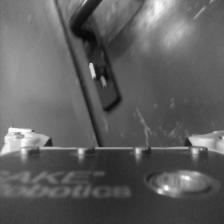Door Handle: (64, 0, 102, 41)
Lock: (88, 60, 108, 91)
